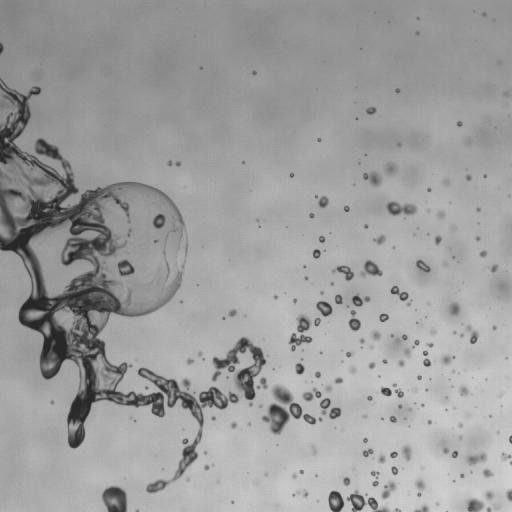droplet: (360, 259, 382, 277), (331, 265, 354, 281), (328, 489, 344, 511), (464, 451, 487, 465), (381, 480, 397, 500), (363, 171, 382, 186), (464, 324, 479, 343), (302, 387, 322, 401), (348, 310, 361, 331), (465, 497, 484, 511), (352, 293, 370, 306), (414, 478, 426, 497), (384, 161, 397, 177), (319, 398, 331, 415), (315, 194, 329, 208), (416, 259, 430, 273), (440, 354, 455, 367), (294, 358, 305, 375), (401, 444, 412, 461), (458, 384, 472, 396), (370, 470, 380, 486), (329, 406, 341, 419), (499, 452, 511, 465), (449, 302, 460, 316), (372, 234, 386, 244), (370, 329, 381, 341), (7, 79, 18, 90), (26, 96, 37, 107), (13, 136, 24, 147), (24, 144, 35, 155), (39, 153, 50, 164), (374, 164, 385, 175), (379, 172, 390, 183), (76, 182, 87, 193), (67, 194, 78, 205), (483, 254, 494, 265), (351, 262, 362, 273), (22, 275, 33, 286), (279, 294, 290, 305), (293, 305, 304, 316), (307, 308, 318, 319), (449, 314, 460, 325), (287, 321, 298, 332), (377, 322, 388, 333), (32, 332, 43, 343), (418, 332, 429, 343), (226, 337, 237, 348), (348, 340, 359, 351), (356, 361, 367, 372), (259, 365, 270, 376), (125, 367, 136, 378), (321, 373, 332, 384), (453, 375, 464, 386), (214, 378, 225, 389), (312, 378, 323, 389), (116, 382, 127, 393), (219, 384, 230, 395), (448, 388, 459, 399), (415, 390, 426, 401), (291, 392, 302, 403), (300, 401, 311, 412), (308, 404, 319, 415), (201, 405, 212, 416), (420, 407, 431, 418), (82, 417, 93, 428), (366, 455, 377, 466), (393, 455, 404, 466), (458, 460, 469, 471), (473, 461, 484, 472), (379, 463, 390, 474), (380, 471, 391, 482), (482, 477, 493, 488), (339, 486, 350, 497), (370, 487, 381, 498), (495, 490, 506, 501), (378, 313, 389, 323), (482, 468, 493, 478), (340, 476, 350, 486), (484, 490, 494, 500), (321, 383, 332, 392), (362, 448, 373, 457), (403, 347, 411, 359), (334, 294, 343, 304), (440, 395, 449, 405), (365, 106, 376, 114), (487, 264, 498, 272), (502, 88, 511, 97), (463, 137, 472, 146), (436, 210, 445, 219), (228, 308, 237, 317), (395, 165, 404, 174), (57, 168, 66, 177), (471, 172, 480, 181), (396, 197, 405, 206), (311, 204, 320, 213), (415, 205, 424, 214), (476, 241, 485, 250), (173, 290, 182, 299), (342, 294, 351, 303), (364, 335, 373, 344), (388, 357, 397, 366), (61, 358, 70, 367), (207, 363, 216, 372), (266, 378, 275, 387), (238, 395, 247, 404), (268, 395, 277, 404), (311, 396, 320, 405), (262, 421, 271, 430), (470, 446, 479, 455), (369, 452, 378, 461), (385, 457, 394, 466), (390, 457, 399, 466), (372, 461, 381, 470), (184, 465, 193, 474), (161, 471, 170, 480), (475, 492, 484, 501), (376, 498, 385, 507), (482, 498, 491, 507), (312, 249, 320, 258), (412, 339, 420, 348), (348, 365, 356, 374), (390, 466, 398, 475), (434, 235, 441, 245), (311, 371, 321, 378), (378, 453, 385, 463), (505, 443, 511, 454), (341, 505, 352, 511), (360, 505, 371, 511), (401, 505, 412, 511), (186, 357, 194, 365), (397, 359, 405, 367), (367, 361, 375, 369), (389, 415, 397, 423), (450, 450, 458, 458), (442, 178, 449, 186), (318, 235, 325, 243), (479, 250, 487, 257), (429, 327, 436, 335), (230, 421, 237, 429), (442, 446, 449, 454), (0, 224, 5, 235), (0, 248, 5, 259), (334, 377, 343, 383), (291, 471, 297, 480), (390, 451, 397, 458), (366, 100, 373, 107), (27, 116, 34, 123), (33, 132, 40, 139), (45, 137, 52, 144), (57, 147, 64, 154), (390, 156, 397, 163), (72, 179, 79, 186), (59, 200, 66, 207), (382, 208, 389, 215), (430, 208, 437, 215), (398, 211, 405, 218), (406, 213, 413, 220), (381, 240, 388, 247), (315, 242, 322, 249), (6, 249, 13, 256), (372, 257, 379, 264), (301, 268, 308, 275), (366, 273, 373, 280), (20, 295, 27, 302), (328, 299, 335, 306), (443, 305, 450, 312), (458, 305, 465, 312), (12, 308, 19, 315), (109, 311, 116, 318), (471, 324, 478, 331), (22, 325, 29, 332), (457, 325, 464, 332), (302, 329, 309, 336), (96, 332, 103, 339), (464, 332, 471, 339), (406, 338, 413, 345), (372, 339, 379, 346), (252, 340, 259, 347), (418, 343, 425, 350), (190, 352, 197, 359), (218, 353, 225, 360), (399, 353, 406, 360), (113, 359, 120, 366), (374, 359, 381, 366), (289, 365, 296, 372), (220, 366, 227, 373), (154, 368, 161, 375), (51, 374, 58, 381), (188, 376, 195, 383), (252, 376, 259, 383), (212, 380, 219, 387), (178, 384, 185, 391), (466, 384, 473, 391), (305, 385, 312, 392), (152, 386, 159, 393), (142, 388, 149, 395), (68, 393, 75, 400), (251, 396, 258, 403), (90, 401, 97, 408), (63, 406, 70, 413), (183, 407, 190, 414), (262, 408, 269, 415), (322, 413, 329, 420), (202, 415, 209, 422), (190, 417, 197, 424), (457, 427, 464, 434), (83, 432, 90, 439), (271, 432, 278, 439), (79, 440, 86, 447), (193, 445, 200, 452), (396, 450, 403, 457), (409, 450, 416, 457), (176, 452, 183, 459), (191, 459, 198, 466), (171, 463, 178, 470), (389, 474, 396, 481), (422, 477, 429, 484), (112, 480, 119, 487), (118, 482, 125, 489), (155, 489, 162, 496), (388, 490, 395, 497), (295, 493, 302, 500), (346, 351, 354, 357), (99, 506, 108, 511), (124, 506, 133, 511), (465, 174, 471, 181), (442, 261, 449, 267), (406, 299, 412, 306), (416, 321, 423, 327), (368, 343, 374, 350), (197, 350, 203, 357), (366, 394, 372, 401), (425, 342, 433, 347), (175, 161, 181, 167), (457, 422, 463, 428), (344, 205, 349, 212), (451, 224, 456, 231), (412, 385, 417, 392), (506, 483, 511, 490), (456, 121, 462, 126), (167, 160, 172, 166), (309, 213, 314, 219), (475, 236, 481, 241), (273, 294, 279, 299), (292, 298, 297, 304), (359, 338, 365, 343), (417, 374, 422, 380), (258, 403, 263, 409), (427, 419, 432, 425), (246, 421, 252, 426), (507, 96, 511, 103), (427, 507, 434, 511), (479, 507, 486, 511), (396, 142, 401, 147), (289, 172, 294, 177), (492, 325, 497, 330), (382, 358, 387, 363), (225, 375, 230, 380), (407, 406, 412, 411), (458, 435, 463, 440), (460, 473, 465, 478), (1, 48, 6, 53), (34, 81, 39, 86), (30, 93, 35, 98), (369, 113, 374, 118), (163, 158, 168, 163), (171, 158, 176, 163), (69, 161, 74, 166), (365, 169, 370, 174), (465, 169, 470, 174), (462, 170, 467, 175), (358, 174, 363, 179), (470, 175, 475, 180), (461, 176, 466, 181), (116, 177, 121, 182), (134, 177, 139, 182), (112, 178, 117, 183), (365, 178, 370, 183), (142, 179, 147, 184), (467, 179, 472, 184), (146, 180, 151, 185), (99, 183, 104, 188), (155, 184, 160, 189), (90, 185, 95, 190), (159, 186, 164, 191), (166, 191, 171, 196), (325, 193, 330, 198), (171, 197, 176, 202), (314, 197, 319, 202), (387, 197, 392, 202), (174, 201, 179, 206), (325, 203, 330, 208), (176, 204, 181, 209), (320, 206, 325, 211), (179, 209, 184, 214), (444, 210, 449, 215), (181, 215, 186, 220), (253, 221, 258, 226), (373, 233, 378, 238), (470, 235, 475, 240), (430, 238, 435, 243), (371, 240, 376, 245), (438, 240, 443, 245), (378, 243, 383, 248), (478, 246, 483, 251), (308, 248, 313, 253), (414, 255, 419, 260), (185, 256, 190, 261), (479, 256, 484, 261), (370, 257, 375, 262), (447, 257, 452, 262), (360, 259, 365, 264), (337, 261, 342, 266), (488, 261, 493, 266), (331, 263, 336, 268), (297, 264, 302, 269), (359, 265, 364, 270), (377, 265, 382, 270), (349, 266, 354, 271), (495, 267, 500, 272), (486, 268, 491, 273), (424, 271, 429, 276), (340, 272, 345, 277), (373, 273, 378, 278), (181, 274, 186, 279), (349, 277, 354, 282), (398, 287, 403, 292), (272, 289, 277, 294), (350, 291, 355, 296), (393, 293, 398, 298), (359, 294, 364, 299), (405, 297, 410, 302), (402, 299, 407, 304), (361, 300, 366, 305), (227, 305, 232, 310), (352, 305, 357, 310), (158, 306, 163, 311), (146, 312, 151, 317), (224, 313, 229, 318), (318, 313, 323, 318), (353, 313, 358, 318), (139, 314, 144, 319), (326, 314, 331, 319), (347, 314, 352, 319), (131, 315, 136, 320), (230, 315, 235, 320), (359, 320, 364, 325), (463, 320, 468, 325), (495, 322, 500, 327), (345, 324, 350, 329), (357, 327, 362, 332), (354, 329, 359, 334), (454, 333, 459, 338), (285, 335, 290, 340), (476, 336, 481, 341), (426, 338, 431, 343), (300, 341, 305, 346), (356, 341, 361, 346), (286, 343, 291, 348), (295, 344, 300, 349), (103, 345, 108, 350), (424, 345, 429, 350), (104, 351, 109, 356), (340, 351, 345, 356), (183, 354, 188, 359), (262, 354, 267, 359), (368, 357, 373, 362), (450, 358, 455, 363), (181, 359, 186, 364), (300, 360, 305, 365), (364, 360, 369, 365), (190, 362, 195, 367), (429, 362, 434, 367), (261, 363, 266, 368), (394, 363, 399, 368), (423, 365, 428, 370), (149, 366, 154, 371), (372, 366, 377, 371), (366, 367, 371, 372), (302, 369, 307, 374), (37, 372, 42, 377), (336, 372, 341, 377), (297, 373, 302, 378), (165, 374, 170, 379), (216, 374, 221, 379), (331, 374, 336, 379), (137, 375, 142, 380), (312, 376, 317, 381), (342, 377, 347, 382), (449, 379, 454, 384), (336, 382, 341, 387), (114, 386, 119, 391), (203, 386, 208, 391), (316, 386, 321, 391), (389, 386, 394, 391), (376, 387, 381, 392), (123, 389, 128, 394), (134, 389, 139, 394), (390, 391, 395, 396), (162, 393, 167, 398), (319, 394, 324, 399), (382, 394, 387, 399), (194, 395, 199, 400), (176, 398, 181, 403), (244, 398, 249, 403), (108, 400, 113, 405), (226, 400, 231, 405), (162, 402, 167, 407), (408, 402, 413, 407), (415, 402, 420, 407), (147, 403, 152, 408), (129, 404, 134, 409), (401, 404, 406, 409), (411, 404, 416, 409), (222, 407, 227, 412), (325, 407, 330, 412), (301, 409, 306, 414), (339, 411, 344, 416), (393, 412, 398, 417), (153, 414, 158, 419), (62, 415, 67, 420), (298, 415, 303, 420), (334, 416, 339, 421), (384, 416, 389, 421), (229, 417, 234, 422), (460, 418, 465, 423), (404, 419, 409, 424), (235, 420, 240, 425), (225, 421, 230, 426), (304, 421, 309, 426), (452, 421, 457, 426), (462, 422, 467, 427), (235, 424, 240, 429), (243, 424, 248, 429), (226, 425, 231, 430), (201, 431, 206, 436), (187, 440, 192, 445), (64, 442, 69, 447), (313, 442, 318, 447), (180, 443, 185, 448), (68, 446, 73, 451), (307, 447, 312, 452), (448, 448, 453, 453), (438, 449, 443, 454), (456, 452, 461, 457), (367, 453, 372, 458), (385, 454, 390, 459), (372, 466, 377, 471), (489, 467, 494, 472), (204, 469, 209, 474), (287, 471, 292, 476), (463, 471, 468, 476), (296, 472, 301, 477), (345, 472, 350, 477), (478, 472, 483, 477), (370, 475, 375, 480), (455, 475, 460, 480), (487, 475, 492, 480), (338, 477, 343, 482), (349, 477, 354, 482), (149, 478, 154, 483), (164, 484, 169, 489), (486, 486, 491, 491), (414, 487, 419, 492), (358, 490, 363, 495), (149, 491, 154, 496), (324, 492, 329, 497), (306, 494, 311, 499), (363, 496, 368, 501), (416, 504, 421, 509), (361, 414, 367, 418), (363, 437, 367, 443), (186, 476, 190, 482), (481, 12, 486, 16), (252, 70, 256, 75), (395, 88, 399, 93), (476, 207, 480, 212), (452, 330, 457, 334), (459, 333, 464, 337), (398, 404, 402, 409), (203, 450, 207, 455), (352, 467, 357, 471), (299, 469, 303, 474), (415, 31, 419, 35), (317, 138, 321, 142), (241, 160, 245, 164), (483, 174, 487, 178), (427, 187, 431, 191), (426, 208, 430, 212), (364, 224, 368, 228), (302, 264, 306, 268), (304, 276, 308, 280), (330, 281, 334, 285), (320, 291, 324, 295), (390, 333, 394, 337), (201, 357, 205, 361), (451, 369, 455, 373), (50, 400, 54, 404), (421, 403, 425, 407), (211, 416, 215, 420), (420, 466, 424, 470), (435, 502, 439, 506), (144, 386, 149, 389), (508, 355, 511, 360), (327, 508, 332, 511), (463, 508, 468, 511), (490, 508, 495, 511), (256, 218, 259, 222), (392, 245, 395, 249), (179, 300, 183, 303), (426, 302, 430, 305), (319, 351, 323, 354), (452, 406, 456, 409), (380, 417, 384, 420), (495, 431, 499, 434), (264, 472, 267, 476), (230, 500, 234, 503), (134, 509, 139, 511), (0, 161, 2, 166), (416, 16, 419, 19), (199, 66, 202, 69), (364, 153, 367, 156), (352, 183, 355, 186), (507, 194, 510, 197), (258, 225, 261, 228), (452, 256, 455, 259), (243, 314, 246, 317), (222, 316, 225, 319), (505, 356, 508, 359), (340, 360, 343, 363), (272, 367, 275, 370), (377, 374, 380, 377), (304, 380, 307, 383), (425, 388, 428, 391), (489, 414, 492, 417), (470, 470, 473, 473), (452, 479, 455, 482), (216, 480, 219, 483), (316, 499, 319, 502), (418, 14, 421, 17), (415, 19, 418, 22), (415, 34, 418, 37), (199, 63, 202, 66), (202, 65, 205, 68), (196, 66, 199, 69), (254, 68, 257, 71), (199, 69, 202, 72), (249, 69, 252, 72), (255, 72, 258, 75), (252, 74, 255, 77), (4, 81, 7, 84), (393, 85, 396, 88), (393, 91, 396, 94), (398, 91, 401, 94), (372, 104, 375, 107), (375, 107, 378, 110), (352, 115, 355, 118), (357, 116, 360, 119), (455, 118, 458, 121), (459, 118, 462, 121), (354, 119, 357, 122), (453, 122, 456, 125), (455, 125, 458, 128), (459, 125, 462, 128), (316, 134, 319, 137), (314, 137, 317, 140), (320, 138, 323, 141), (316, 141, 319, 144), (361, 152, 364, 155), (366, 152, 369, 155), (364, 155, 367, 158), (239, 158, 242, 161), (244, 159, 247, 162), (171, 162, 174, 165), (240, 163, 243, 166), (167, 165, 170, 168), (286, 172, 289, 175), (480, 173, 483, 176), (486, 174, 489, 177), (292, 175, 295, 178), (288, 176, 291, 179), (483, 177, 486, 180), (124, 178, 127, 181), (128, 178, 131, 181), (424, 188, 427, 191), (430, 188, 433, 191), (314, 191, 317, 194), (427, 191, 430, 194), (311, 194, 314, 197), (344, 202, 347, 205), (347, 203, 350, 206), (477, 204, 480, 207), (480, 207, 483, 210), (348, 208, 351, 211), (473, 208, 476, 211), (341, 209, 344, 212), (345, 211, 348, 214), (476, 211, 479, 214), (306, 214, 309, 217), (313, 214, 316, 217), (256, 215, 259, 218), (310, 217, 313, 220), (258, 222, 261, 225), (361, 223, 364, 226), (367, 225, 370, 228), (257, 227, 260, 230), (362, 227, 365, 230), (328, 228, 331, 231), (318, 232, 321, 235), (477, 233, 480, 236), (187, 236, 190, 239), (324, 237, 327, 240), (478, 239, 481, 242), (186, 247, 189, 250), (391, 248, 394, 251), (319, 249, 322, 252), (186, 251, 189, 254), (309, 252, 312, 255), (451, 252, 454, 255), (454, 256, 457, 259), (312, 257, 315, 260), (315, 257, 318, 260), (413, 259, 416, 262), (425, 262, 428, 265), (305, 263, 308, 266), (347, 264, 350, 267), (183, 265, 186, 268), (302, 267, 305, 270), (416, 267, 419, 270), (328, 268, 331, 271), (420, 269, 423, 272), (24, 270, 27, 273), (303, 273, 306, 276), (301, 276, 304, 279), (307, 276, 310, 279), (304, 279, 307, 282), (195, 280, 198, 283), (327, 281, 330, 284), (393, 282, 396, 285), (193, 284, 196, 287), (388, 286, 391, 289), (319, 287, 322, 290), (387, 289, 390, 292), (335, 291, 338, 294), (293, 295, 296, 298), (270, 296, 273, 299), (290, 296, 293, 299), (275, 298, 278, 301), (341, 298, 344, 301), (369, 298, 372, 301), (182, 300, 185, 303), (290, 300, 293, 303), (295, 300, 298, 303), (410, 301, 413, 304), (179, 303, 182, 306), (313, 303, 316, 306), (380, 310, 383, 313), (377, 312, 380, 315), (424, 312, 427, 315), (387, 313, 390, 316), (426, 315, 429, 318), (421, 316, 424, 319), (376, 318, 379, 321), (416, 318, 419, 321), (221, 319, 224, 322), (384, 319, 387, 322), (412, 320, 415, 323), (380, 321, 383, 324), (318, 322, 321, 325), (415, 323, 418, 326), (489, 324, 492, 327), (453, 327, 456, 330), (493, 329, 496, 332), (387, 335, 390, 338), (391, 336, 394, 339), (415, 336, 418, 339), (400, 338, 403, 341), (474, 341, 477, 344), (361, 343, 364, 346), (470, 343, 473, 346), (320, 348, 323, 351), (346, 348, 349, 351), (419, 350, 422, 353), (316, 352, 319, 355), (320, 353, 323, 356), (504, 353, 507, 356), (199, 355, 202, 358), (344, 355, 347, 358), (348, 356, 351, 359), (505, 358, 508, 361), (386, 359, 389, 362), (380, 361, 383, 364), (383, 362, 386, 365), (420, 362, 423, 365), (136, 366, 139, 369), (274, 367, 277, 370), (454, 370, 457, 373), (319, 371, 322, 374), (418, 372, 421, 375), (421, 375, 424, 378), (414, 376, 417, 379), (430, 378, 433, 381), (481, 378, 484, 381), (417, 379, 420, 382), (486, 379, 489, 382), (425, 385, 428, 388), (421, 388, 424, 391), (427, 388, 430, 391), (445, 392, 448, 395), (466, 393, 469, 396), (371, 395, 374, 398), (460, 395, 463, 398), (441, 396, 444, 399), (47, 398, 50, 401), (413, 398, 416, 401), (53, 399, 56, 402), (365, 399, 368, 402), (370, 399, 373, 402), (421, 400, 424, 403), (49, 403, 52, 406), (395, 405, 398, 408), (445, 405, 448, 408), (421, 406, 424, 409), (441, 408, 444, 411), (407, 410, 410, 413), (445, 410, 448, 413), (488, 411, 491, 414), (485, 414, 488, 417), (395, 416, 398, 419), (427, 416, 430, 419), (490, 416, 493, 419), (361, 417, 364, 420), (130, 418, 133, 421), (246, 418, 249, 421), (212, 419, 215, 422), (379, 419, 382, 422), (431, 419, 434, 422), (250, 420, 253, 423), (424, 420, 427, 423), (250, 423, 253, 426), (429, 423, 432, 426), (363, 434, 366, 437), (182, 435, 185, 438), (506, 435, 509, 438), (360, 436, 363, 439), (506, 439, 509, 442), (360, 440, 363, 443), (272, 442, 275, 445), (275, 445, 278, 448), (364, 447, 367, 450), (389, 449, 392, 452), (206, 451, 209, 454), (498, 451, 501, 454), (359, 452, 362, 455), (361, 455, 364, 458), (452, 457, 455, 460), (208, 465, 211, 468), (395, 465, 398, 468), (300, 466, 303, 469), (296, 469, 299, 472), (303, 469, 306, 472), (388, 469, 391, 472), (459, 470, 462, 473), (367, 471, 370, 474), (317, 473, 320, 476), (312, 475, 315, 478), (449, 479, 452, 482), (369, 481, 372, 484), (305, 488, 308, 491), (292, 490, 295, 493), (289, 494, 292, 497), (294, 494, 297, 497), (415, 495, 418, 498), (436, 499, 439, 502), (233, 500, 236, 503), (230, 503, 233, 506), (397, 506, 400, 509), (443, 507, 446, 510), (355, 117, 358, 119), (358, 162, 360, 165), (416, 227, 419, 229), (413, 232, 415, 235), (426, 233, 429, 235), (196, 284, 199, 286), (346, 305, 349, 307), (414, 308, 417, 310), (429, 377, 431, 380), (311, 380, 313, 383), (500, 404, 502, 407), (445, 408, 447, 411), (403, 417, 406, 419), (182, 428, 184, 431), (276, 443, 278, 446), (161, 468, 164, 470), (315, 474, 317, 477), (365, 493, 367, 496), (445, 509, 448, 511), (509, 452, 511, 455), (509, 457, 511, 460), (138, 509, 141, 511), (496, 509, 499, 511), (449, 201, 451, 203), (477, 222, 479, 224), (329, 232, 331, 234), (323, 249, 325, 251), (284, 292, 286, 294), (425, 316, 427, 318), (461, 323, 463, 325), (301, 349, 303, 351), (457, 372, 459, 374), (448, 378, 450, 380), (485, 378, 487, 380), (451, 385, 453, 387), (414, 402, 416, 404), (408, 425, 410, 427), (334, 426, 336, 428), (457, 261, 459, 262), (361, 346, 362, 348), (341, 349, 342, 351), (360, 48, 361, 49), (475, 406, 476, 407), (448, 473, 449, 474)
ligament: (287, 301, 332, 351), (386, 201, 417, 219), (390, 285, 409, 301), (292, 488, 309, 498), (422, 350, 431, 367), (413, 503, 429, 511), (486, 503, 500, 511), (394, 334, 407, 342), (504, 488, 511, 502), (310, 444, 317, 455), (203, 463, 214, 470), (0, 42, 3, 54), (498, 392, 504, 398), (130, 416, 136, 422), (464, 413, 470, 418), (509, 434, 511, 444)
